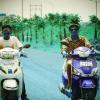motorcycles: (62, 45, 99, 100), (0, 47, 26, 100)
